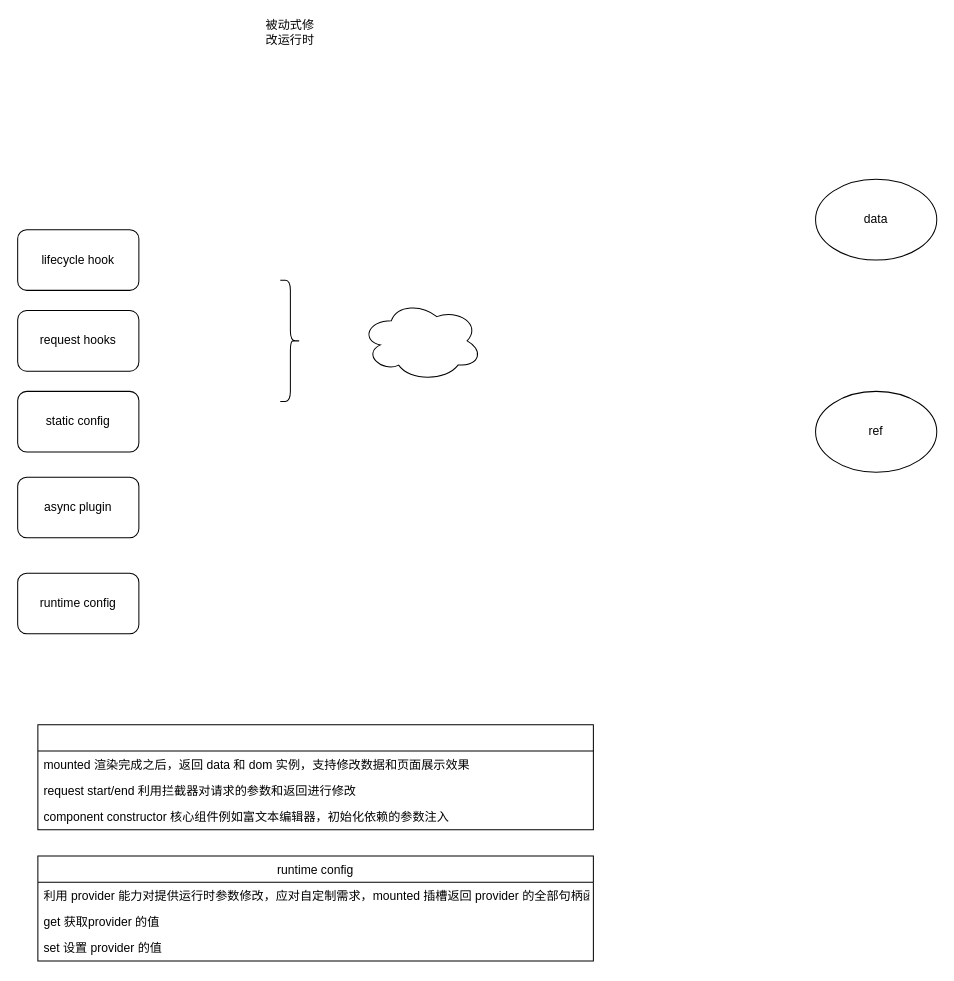
Image size: 954x981. Some labels were removed from this diagram. Here are the shapes that lost their labels. From the top down, the box of each, then its label:
(360, 299, 482, 381): props
(37, 724, 593, 830): async plugin: async event callback
